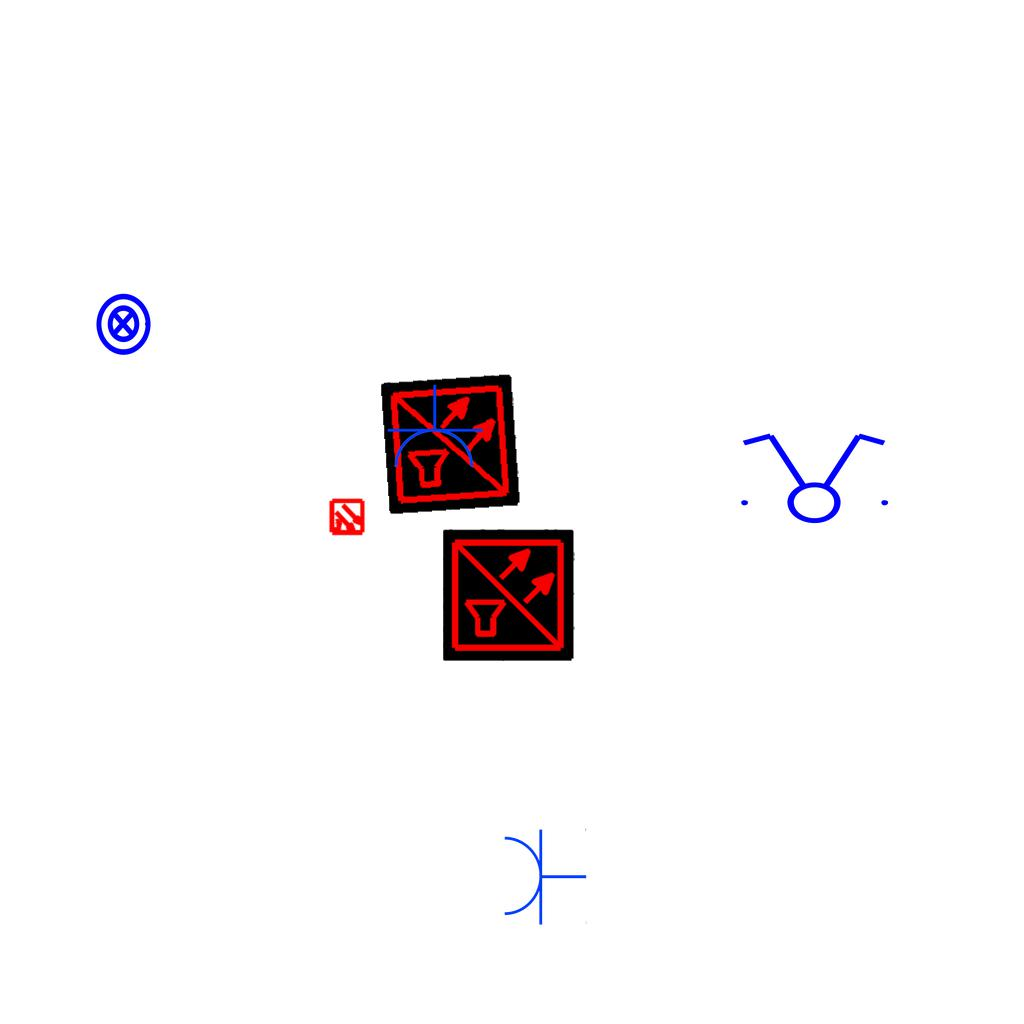OKW_Multisensormelder_(Kombination_optischer_Rauch-Kahlenmonoxid_Waerme-Melder): (380, 373, 522, 515), (443, 529, 575, 661)
OT_Multisensormelder_(Kombination_RMO_WMD): (319, 490, 375, 546)
Schukosteckdose_einfach: (500, 826, 587, 926), (384, 384, 484, 471)
Serienschalter: (729, 429, 897, 525)
Taster_beleuchtet: (90, 291, 156, 357)
